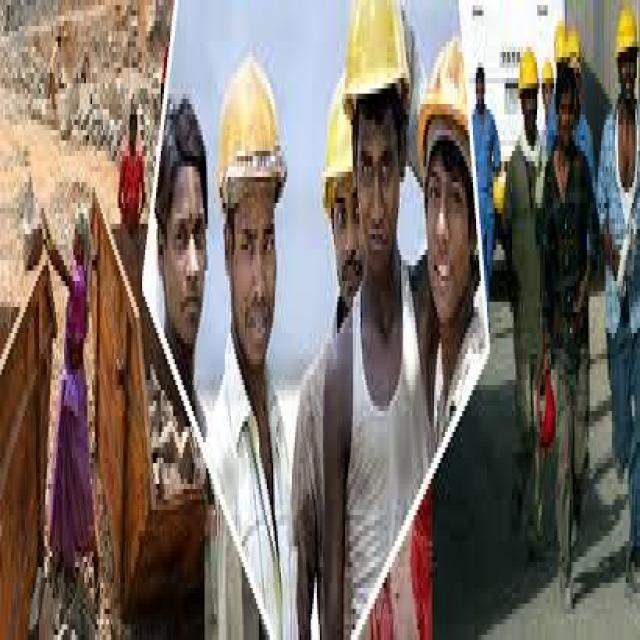Safety-Helmet: (214, 42, 289, 213), (415, 21, 484, 187), (339, 0, 412, 125), (552, 10, 586, 94), (515, 31, 542, 104), (612, 0, 640, 68)
